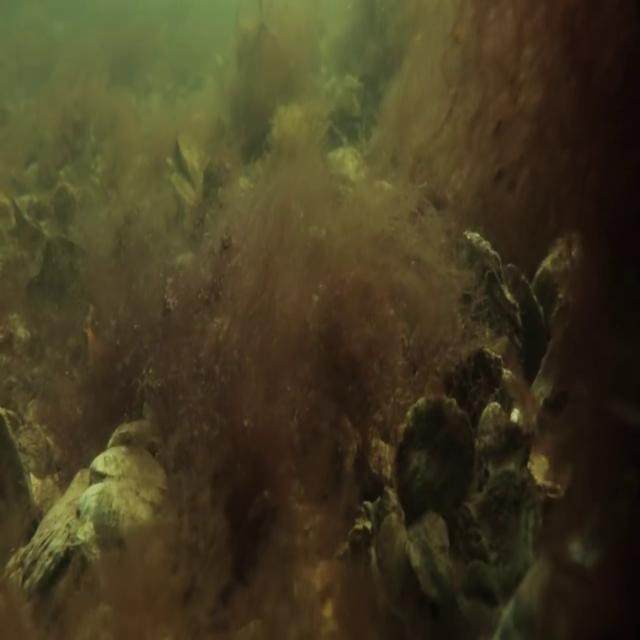Oyster-Closed: (175, 129, 209, 206), (165, 166, 199, 214)
Oyster-Indeterminate: (392, 387, 481, 552), (378, 508, 471, 628), (443, 333, 517, 425), (503, 254, 552, 377), (469, 267, 527, 361), (457, 218, 511, 291)
